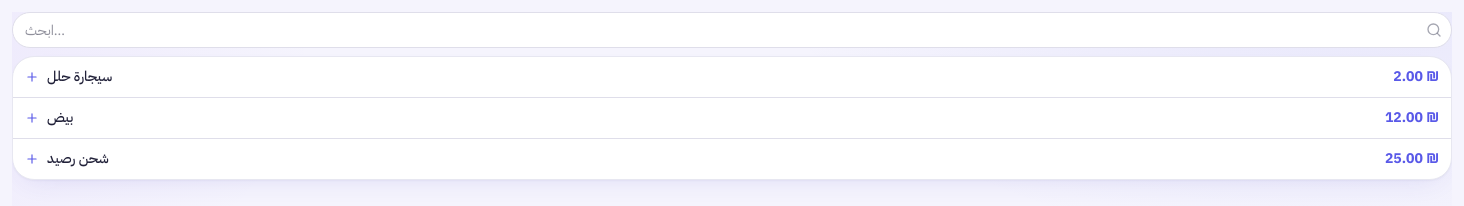
Test: the panel › is searchable by name
This screenshot has width=1464, height=206.
In the field named "ابحث في الأصناف بدون باركود": coordinates (732, 30) [12,12,1452,48], type "شحن"
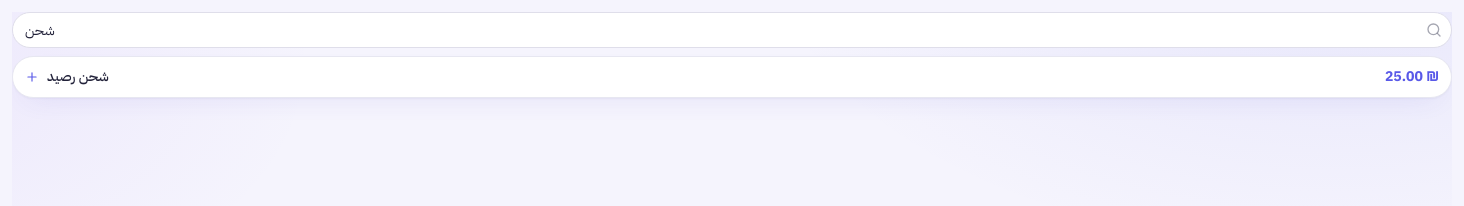
Expected: the text "شحن رصيد" is shown, [47,66,109,87]
Now the button "بيض" is gone
